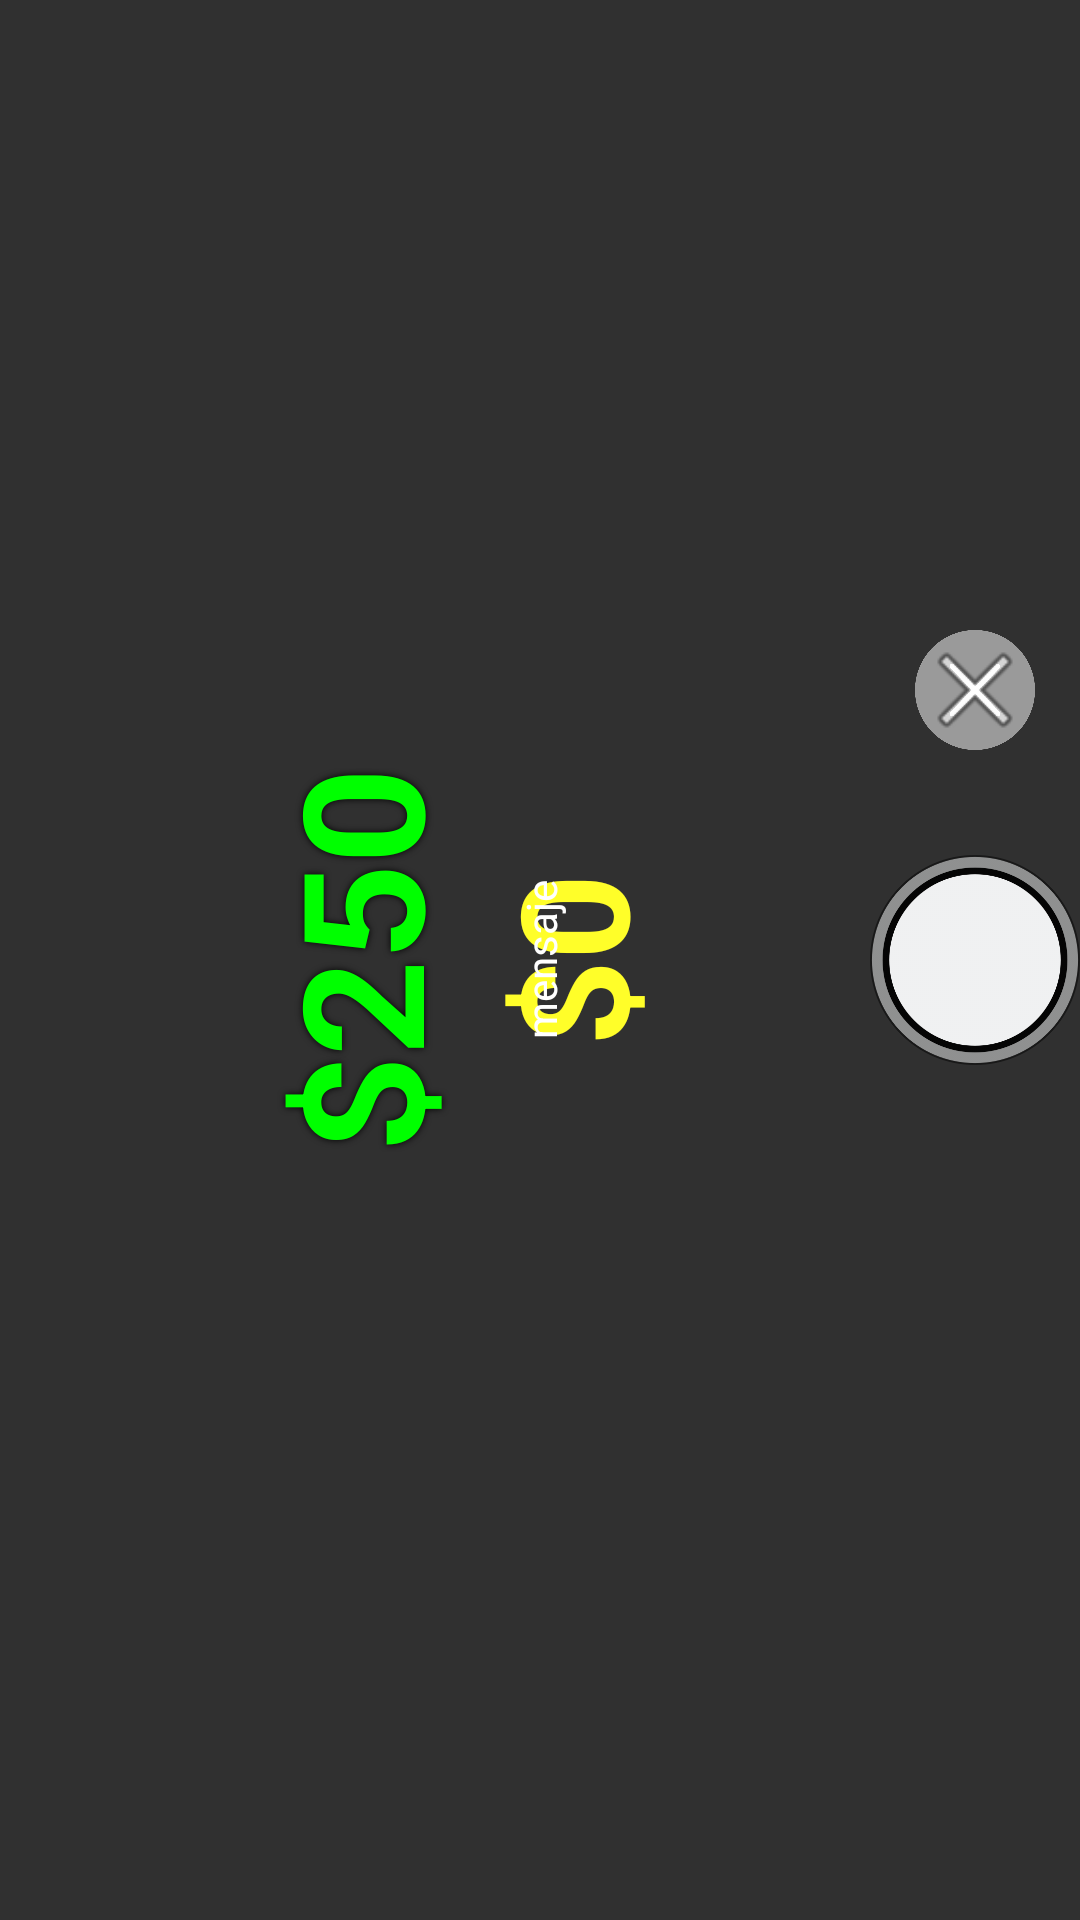

Screen size 1080 x 1920. Icon name, then its center in pixels as (x,y):
close clear cancel: (975,690)
